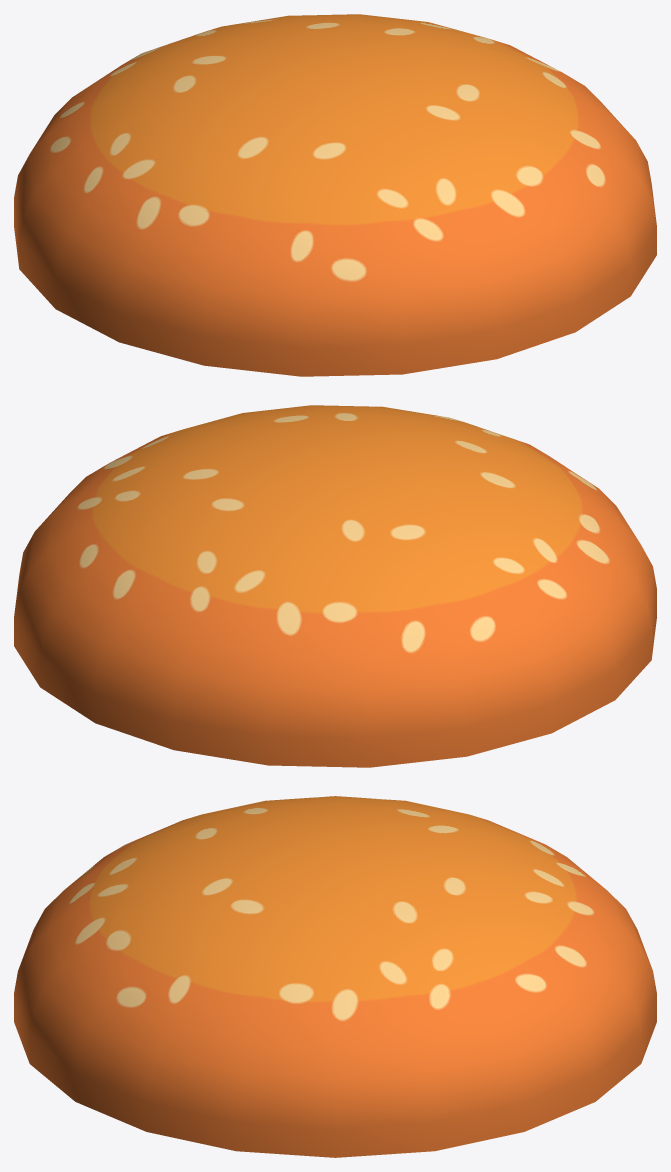
The model's file is Bun_Slice_Top.glb.
3 renders of one model, top to bottom at view 1: azimuth 30°, elevation 25°; view 2: azimuth 150°, elevation 25°; view 3: azimuth 270°, elevation 25°, orthographic.
Visible parts, largest first — view 1: Bun_Slice_Top; view 2: Bun_Slice_Top; view 3: Bun_Slice_Top.
Part boxes in pixels (x1=…): Bun_Slice_Top: x1=14, y1=14, x2=656, y2=376; Bun_Slice_Top: x1=14, y1=405, x2=656, y2=767; Bun_Slice_Top: x1=14, y1=796, x2=656, y2=1157.
Size of the model in its own units: 0.2035 by 0.06 by 0.2035.
1 material, 1 textured.
